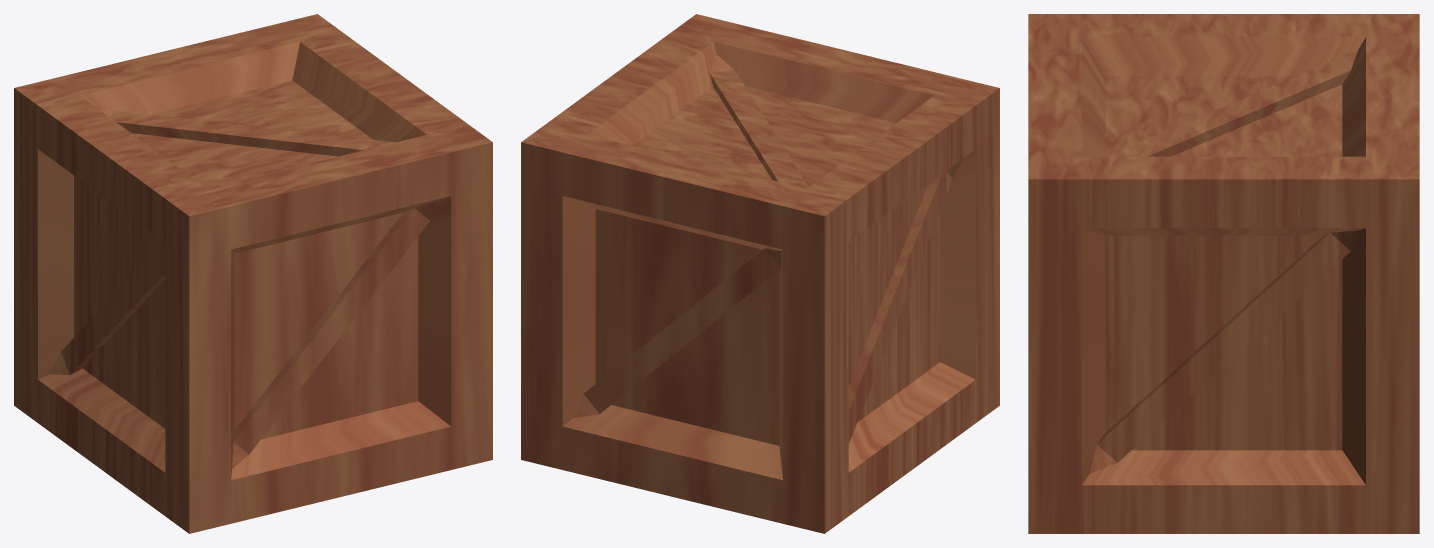
Rendered from N2M.ShippingContainer3.fbx.
3 renders of one model, left to right at view 1: azimuth 30°, elevation 25°; view 2: azimuth 150°, elevation 25°; view 3: azimuth 270°, elevation 25°, orthographic. The views are drawn at different scales.
Visible parts, largest first — view 1: Cube; view 2: Cube; view 3: Cube.
Part boxes in pixels (<box>): Cube: <box>14,14,492,533</box>; Cube: <box>521,14,999,533</box>; Cube: <box>1028,14,1419,533</box>.
Bounding box in the file's own units: 200 × 200 × 200.
Materials: 1 (1 with a texture image).
